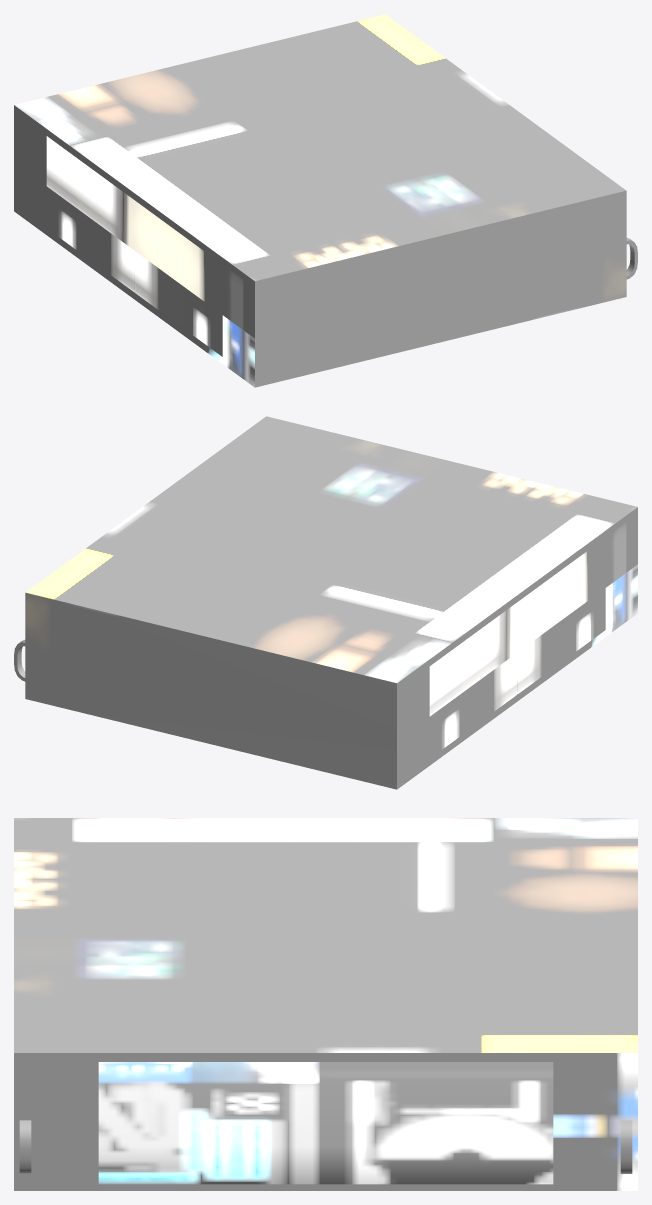
The model's file is SM_H_Government_Office_ServerParts_05_ATLAS.fbx.
3 views of the same model, one above another, from view 1: azimuth 30°, elevation 25°; view 2: azimuth 150°, elevation 25°; view 3: azimuth 270°, elevation 25° (orthographic). The views are drawn at different scales.
Visible parts, largest first — view 1: SM_H_Government_Office_ServerParts_05_ATLAS_LOD0; view 2: SM_H_Government_Office_ServerParts_05_ATLAS_LOD0; view 3: SM_H_Government_Office_ServerParts_05_ATLAS_LOD0.
Boxes of the visible parts, x1=… form: SM_H_Government_Office_ServerParts_05_ATLAS_LOD0: x1=14, y1=14, x2=637, y2=387; SM_H_Government_Office_ServerParts_05_ATLAS_LOD0: x1=14, y1=416, x2=637, y2=789; SM_H_Government_Office_ServerParts_05_ATLAS_LOD0: x1=14, y1=818, x2=637, y2=1190.
Bounding box in the file's own units: 39.02 × 42.08 × 11.62.
